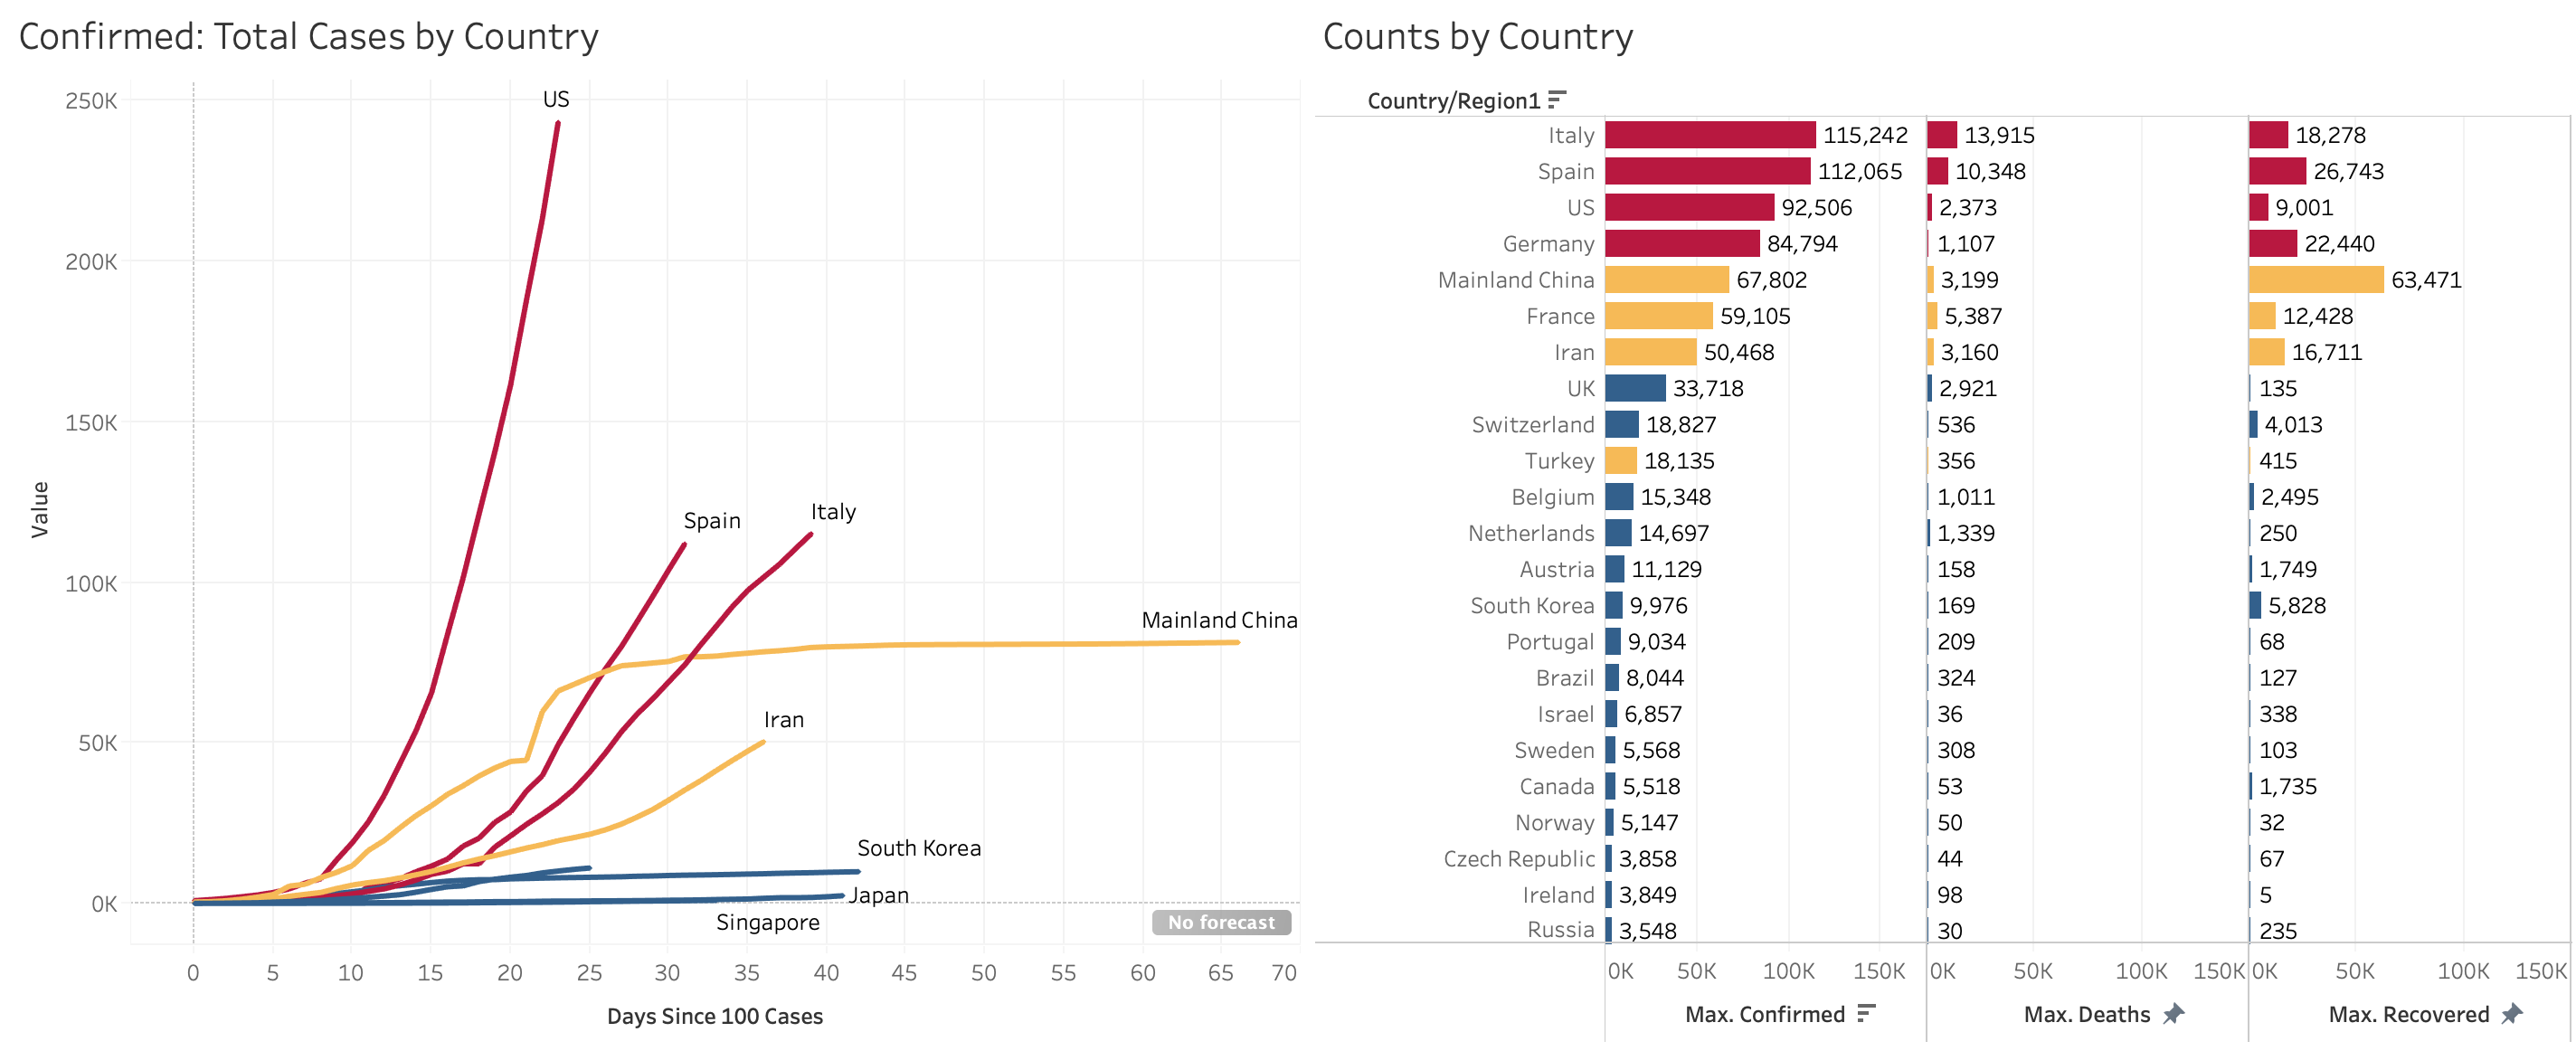

This screenshot's page, from the dashboard's own definition file:
{"tool":"tableau","page":{"name":"Growth Metrics by Country","canvas":[1000,1000],"units":"permille","ordinal":1},"visuals":[{"type":"worksheet","title":"Growth by Country","mark":"Line","cols":["Calculation_6137913746616369153"],"box":[5.5,13.3,494.5,973.3]},{"type":"worksheet","title":"Counts by Country","mark":"Automatic","rows":["Country/Region"],"cols":["Confirmed","Deaths","Recovered"],"box":[500,13.3,494.5,973.3]}]}

Visuals, with their boxes on the dashboard's canvas, which has no fixed pixel size, in thousandths of its width and height (x1, y1, x2, y2). These are canvas units, not pixel positions in the 2576x1051 screenshot, which may show the page scaled, cropped or inside an application window:
"Growth by Country" worksheet (Line marks): (left=6, top=13, right=500, bottom=987)
"Counts by Country" worksheet: (left=500, top=13, right=994, bottom=987)
